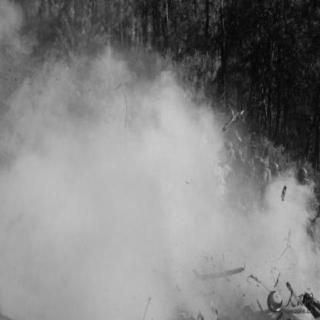Fire: (2, 32, 134, 134), (204, 138, 228, 198)
other: (228, 140, 280, 198)
